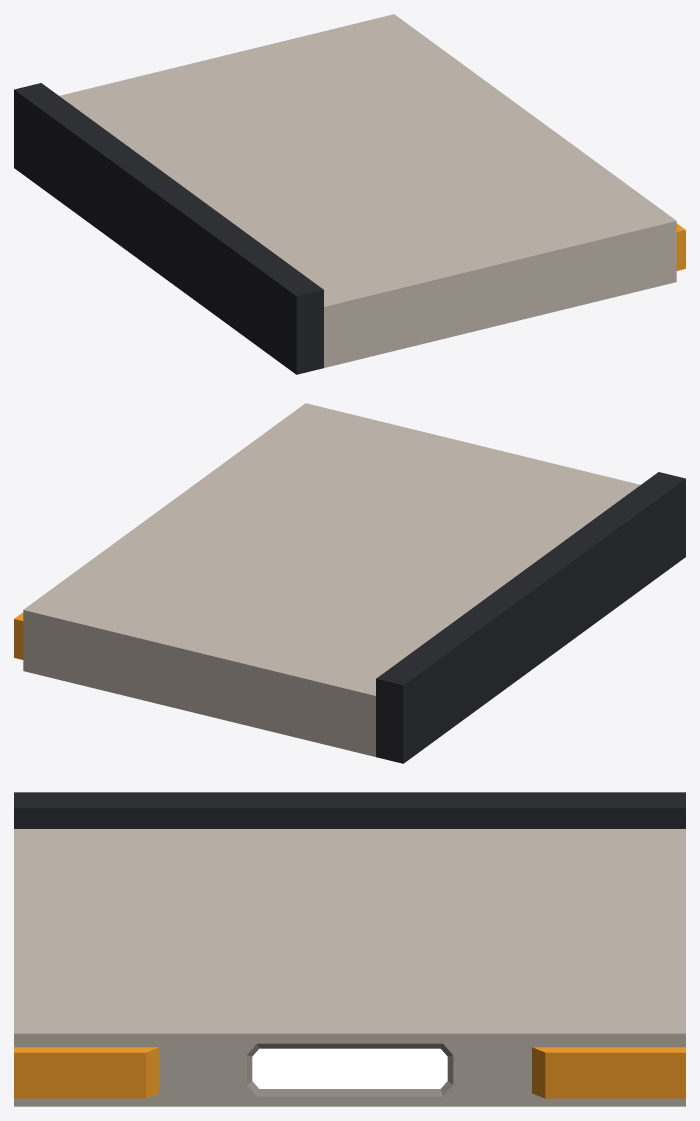
File: SM_Handing_Table_Top_Kinchen_C.glb
3 renders of one model, top to bottom at view 1: azimuth 30°, elevation 25°; view 2: azimuth 150°, elevation 25°; view 3: azimuth 270°, elevation 25°, orthographic. The views are drawn at different scales.
Parts seen in each view (by area): view 1: SM_Handing_Table_Top_Kinchen_C; view 2: SM_Handing_Table_Top_Kinchen_C; view 3: SM_Handing_Table_Top_Kinchen_C.
Part boxes in pixels (x1,y1,x2,y2): SM_Handing_Table_Top_Kinchen_C: (14, 14, 685, 374); SM_Handing_Table_Top_Kinchen_C: (14, 403, 685, 763); SM_Handing_Table_Top_Kinchen_C: (14, 792, 685, 1106).
Bounding box in the file's own units: 0.6367 × 0.1226 × 0.8.
2 materials, 1 textured.
